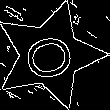O_E: (17, 27, 82, 84)
